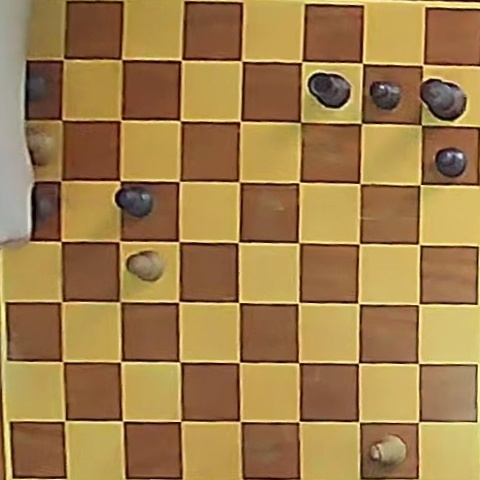black-king: (421, 79, 466, 120)
black-pawn: (116, 186, 154, 217), (434, 147, 466, 177), (370, 81, 402, 110)
black-rook: (308, 73, 350, 108)
white-bishop: (371, 436, 406, 466)
white-pawn: (127, 251, 164, 281)
